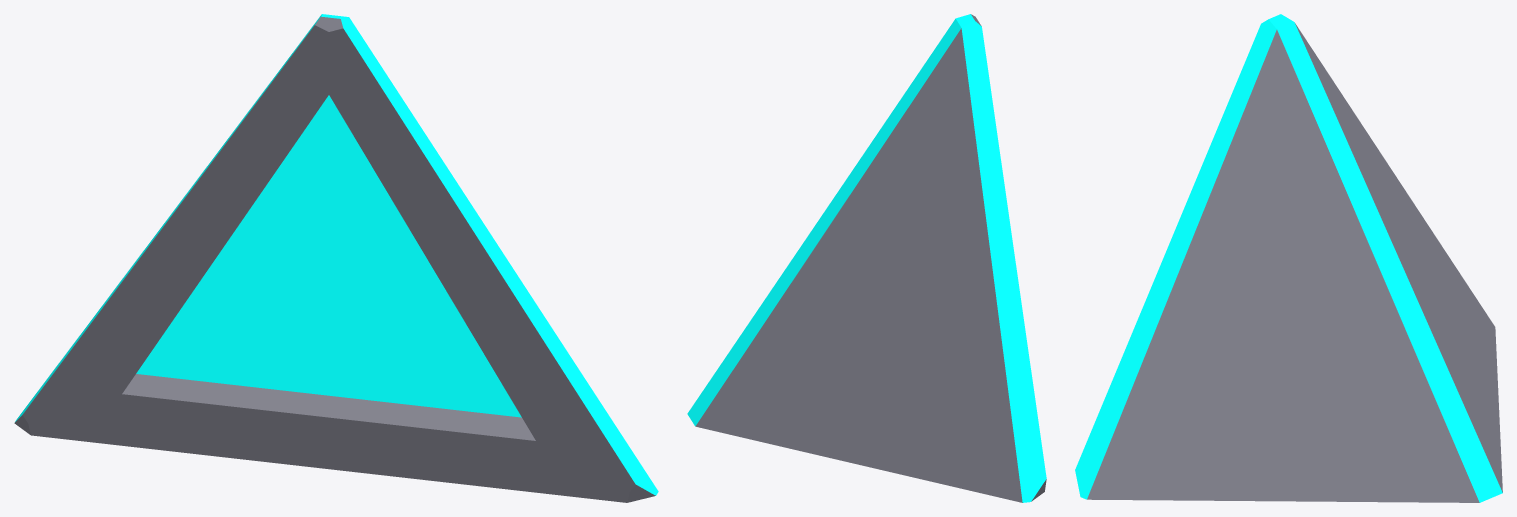
The model's file is silver_pyramid.gltf.
3 views of the same model, side by side, from view 1: azimuth 30°, elevation 25°; view 2: azimuth 150°, elevation 25°; view 3: azimuth 270°, elevation 25° (orthographic). The views are drawn at different scales.
Parts seen in each view (by area): view 1: silver_pyramid; view 2: silver_pyramid; view 3: silver_pyramid.
Part boxes in pixels (<box>): silver_pyramid: <box>14,14,658,502</box>; silver_pyramid: <box>687,14,1046,502</box>; silver_pyramid: <box>1075,14,1502,502</box>.
Size of what is drawn, in the model's own units: 1.83 by 1.84 by 1.83.
2 materials, 2 textured.
